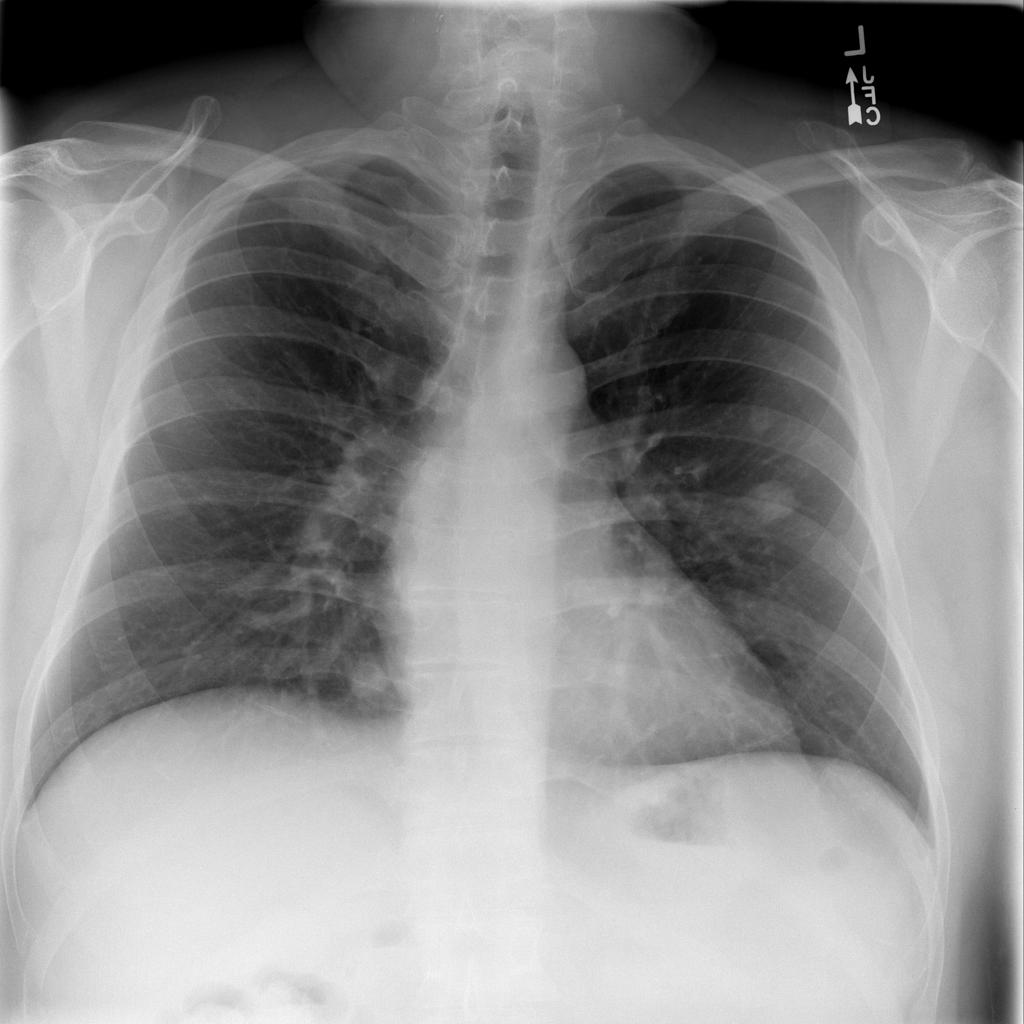nodule: (729, 467, 812, 538), (333, 645, 411, 711), (725, 384, 796, 449)
